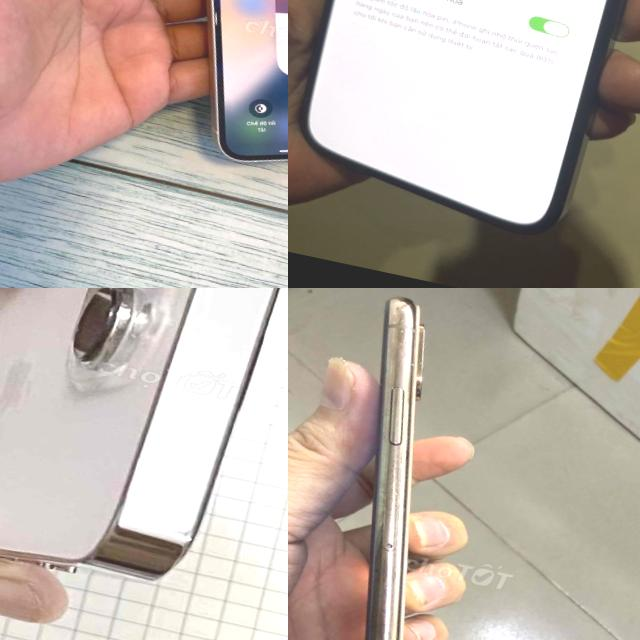gen_12_13: (0, 288, 288, 611), (142, 0, 288, 194)
gen_14: (288, 0, 640, 248)
gen_x_xs: (366, 297, 424, 640)
scratch: (379, 479, 406, 505), (390, 308, 414, 337), (385, 324, 417, 342), (401, 356, 422, 372)
